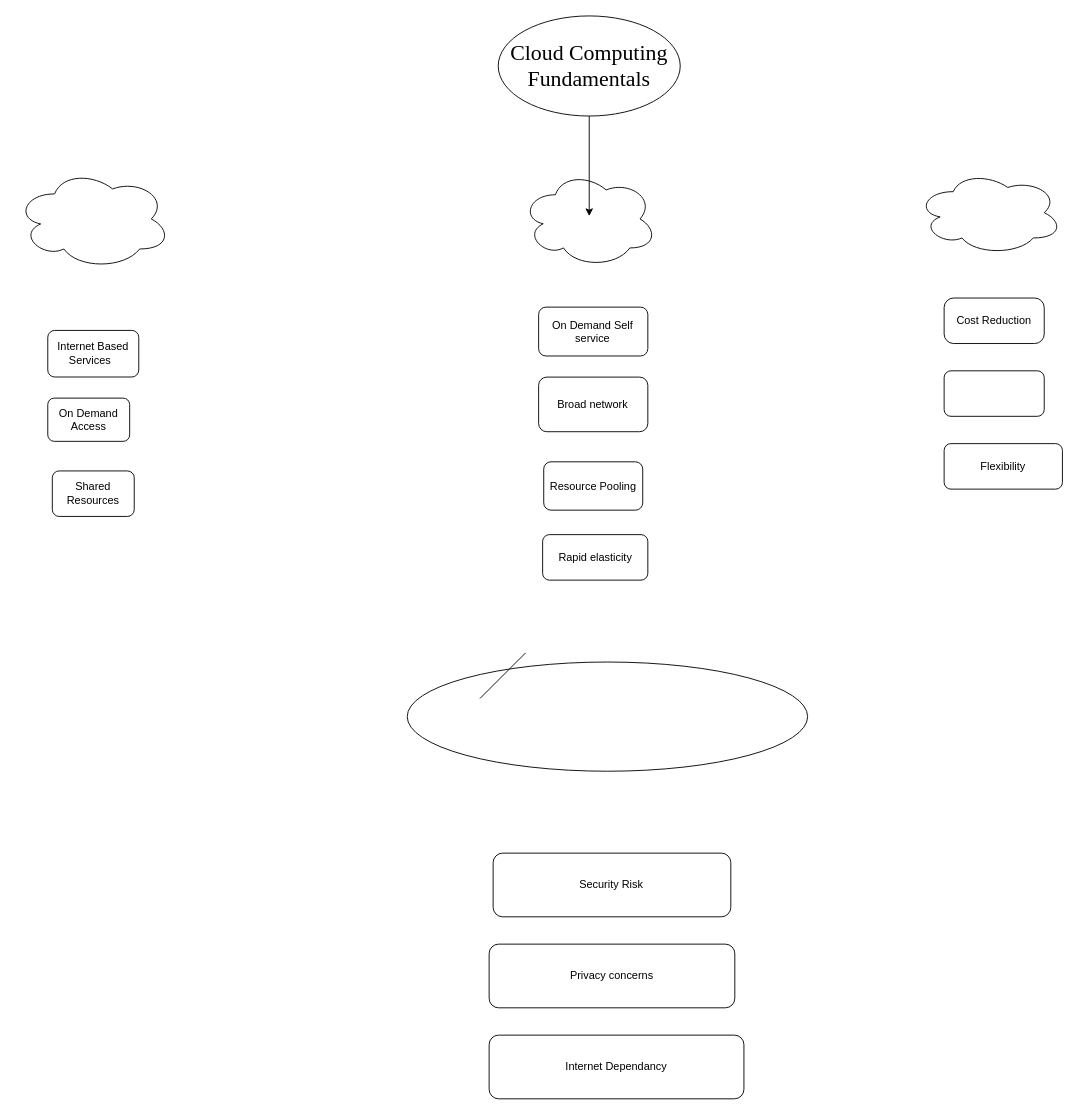
The diagram is 1078 pixels wide and 1115 high, and some of its shapes have lost their labels. The shapes that lost their labels are listed below. From the top down, each one's centre as x and y in pixels, then its label:
the point at 93,218: Definition
the point at 589,218: Characteristics
the point at 989,212: Benefits
the point at 993,393: Scallability
the point at 607,716: Limitations
